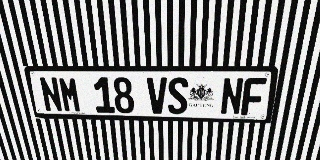1: (92, 77, 115, 113)
8: (112, 77, 134, 113)
F: (241, 78, 267, 116)
M: (58, 77, 82, 112)
N: (220, 78, 244, 115), (38, 77, 63, 112)
S: (168, 77, 188, 114)
V: (147, 77, 167, 114)
